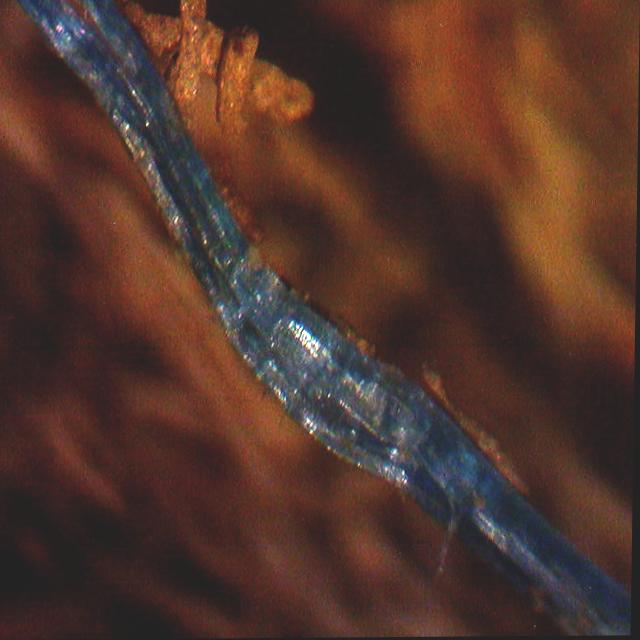microplastic: (13, 0, 633, 637)
